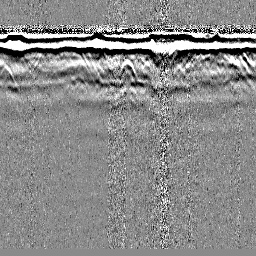cavity: (118, 57, 139, 82)
